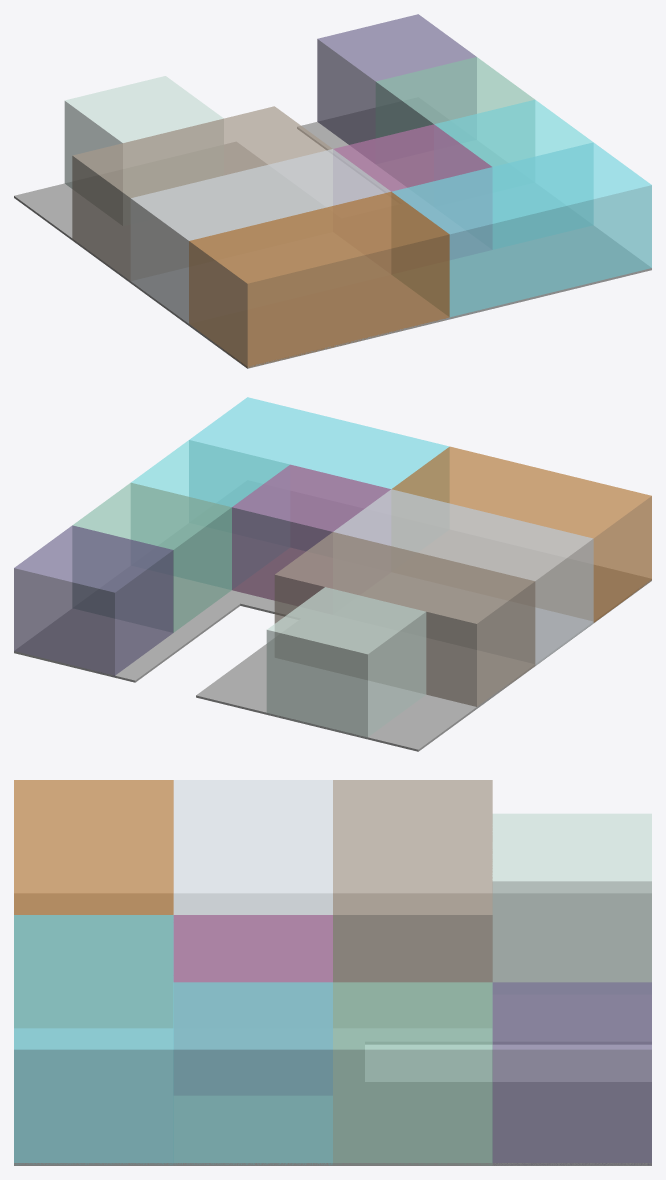
File: adjacent.glb
3 views of the same model, one above another, from view 1: azimuth 30°, elevation 25°; view 2: azimuth 150°, elevation 25°; view 3: azimuth 270°, elevation 25° (orthographic). The views are drawn at different scales.
Visible parts, largest first — view 1: 1914_mesh, 1911_mesh, 1920_mesh, 1917_mesh, 1923_mesh, 1932_mesh, 1938_mesh, 1929_mesh, 1935_mesh, 1926_mesh; view 2: 1911_mesh, 1923_mesh, 1917_mesh, 1914_mesh, 1920_mesh, 1932_mesh, 1938_mesh, 1935_mesh, 1929_mesh, 1926_mesh; view 3: 1911_mesh, 1920_mesh, 1923_mesh, 1914_mesh, 1917_mesh, 1938_mesh, 1935_mesh, 1929_mesh, 1932_mesh, 1926_mesh.
Boxes of the visible parts, x1=… form: 1914_mesh: x1=189, y1=191, x2=449, y2=367; 1911_mesh: x1=14, y1=108, x2=651, y2=368; 1920_mesh: x1=392, y1=142, x2=651, y2=318; 1917_mesh: x1=130, y1=149, x2=390, y2=323; 1923_mesh: x1=72, y1=106, x2=332, y2=280; 1932_mesh: x1=64, y1=76, x2=223, y2=225; 1938_mesh: x1=317, y1=14, x2=476, y2=163; 1929_mesh: x1=434, y1=99, x2=593, y2=248; 1935_mesh: x1=375, y1=57, x2=534, y2=186; 1926_mesh: x1=333, y1=124, x2=491, y2=259; 1911_mesh: x1=14, y1=547, x2=651, y2=751; 1923_mesh: x1=274, y1=532, x2=535, y2=706; 1917_mesh: x1=333, y1=489, x2=593, y2=665; 1914_mesh: x1=391, y1=446, x2=651, y2=622; 1920_mesh: x1=189, y1=397, x2=449, y2=550; 1932_mesh: x1=266, y1=587, x2=426, y2=738; 1938_mesh: x1=14, y1=525, x2=173, y2=676; 1935_mesh: x1=72, y1=482, x2=231, y2=632; 1929_mesh: x1=131, y1=440, x2=289, y2=589; 1926_mesh: x1=232, y1=464, x2=390, y2=605; 1911_mesh: x1=14, y1=893, x2=651, y2=1165; 1920_mesh: x1=14, y1=915, x2=173, y2=1165; 1923_mesh: x1=333, y1=780, x2=492, y2=1027; 1914_mesh: x1=14, y1=780, x2=173, y2=1027; 1917_mesh: x1=173, y1=780, x2=332, y2=981; 1938_mesh: x1=492, y1=982, x2=651, y2=1165; 1935_mesh: x1=333, y1=982, x2=492, y2=1165; 1929_mesh: x1=173, y1=982, x2=332, y2=1165; 1932_mesh: x1=492, y1=813, x2=651, y2=993; 1926_mesh: x1=173, y1=915, x2=332, y2=1094.
Size of the model in its own units: 20 by 4.02 by 20.
